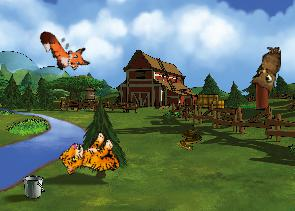fox: (36, 18, 93, 80)
owl: (250, 44, 281, 93)
tiger: (56, 125, 125, 191)
